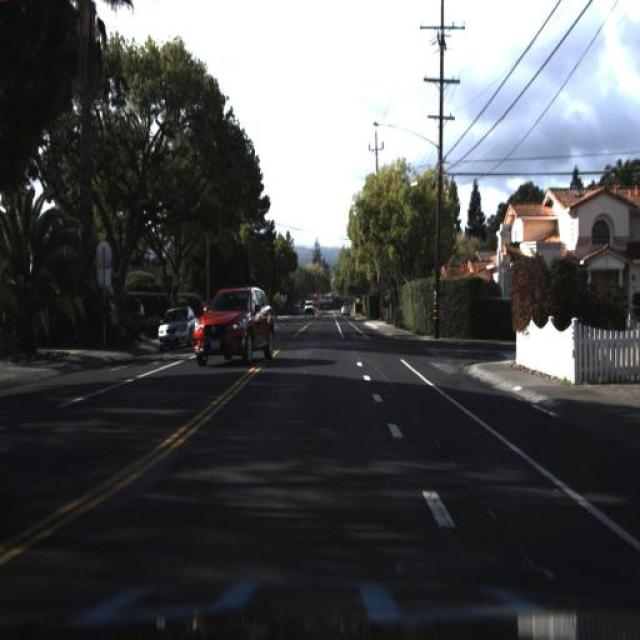car: (187, 278, 279, 372)
